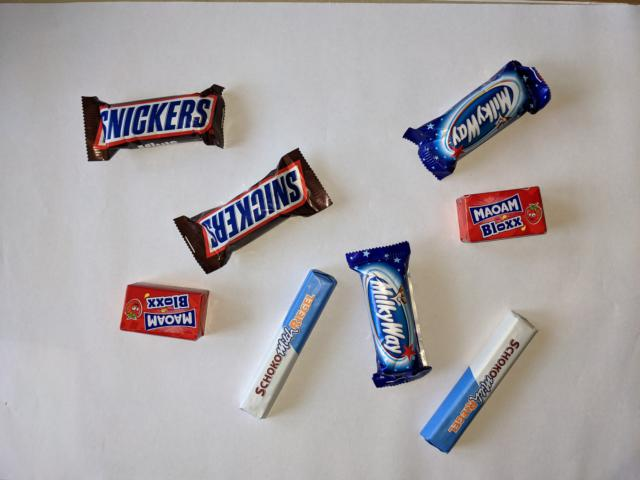MAOAM: (116, 278, 212, 344), (452, 183, 551, 246)
MilkyWay: (400, 58, 555, 183), (343, 239, 436, 390)
Schokoriegel: (417, 305, 545, 457), (233, 265, 341, 425)
Snickers: (169, 146, 336, 278), (76, 80, 230, 166)
